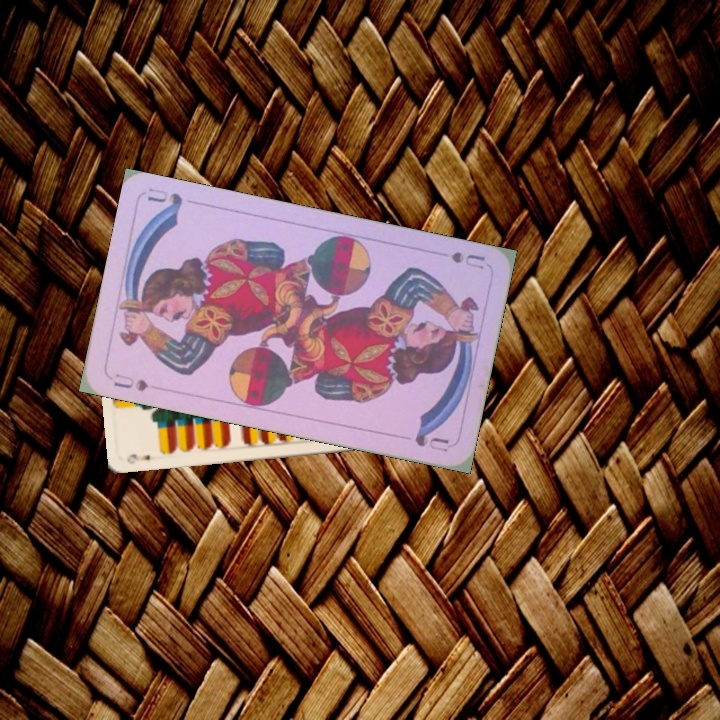E9: (123, 450, 152, 466)
SU: (109, 369, 151, 394), (447, 247, 488, 272)
